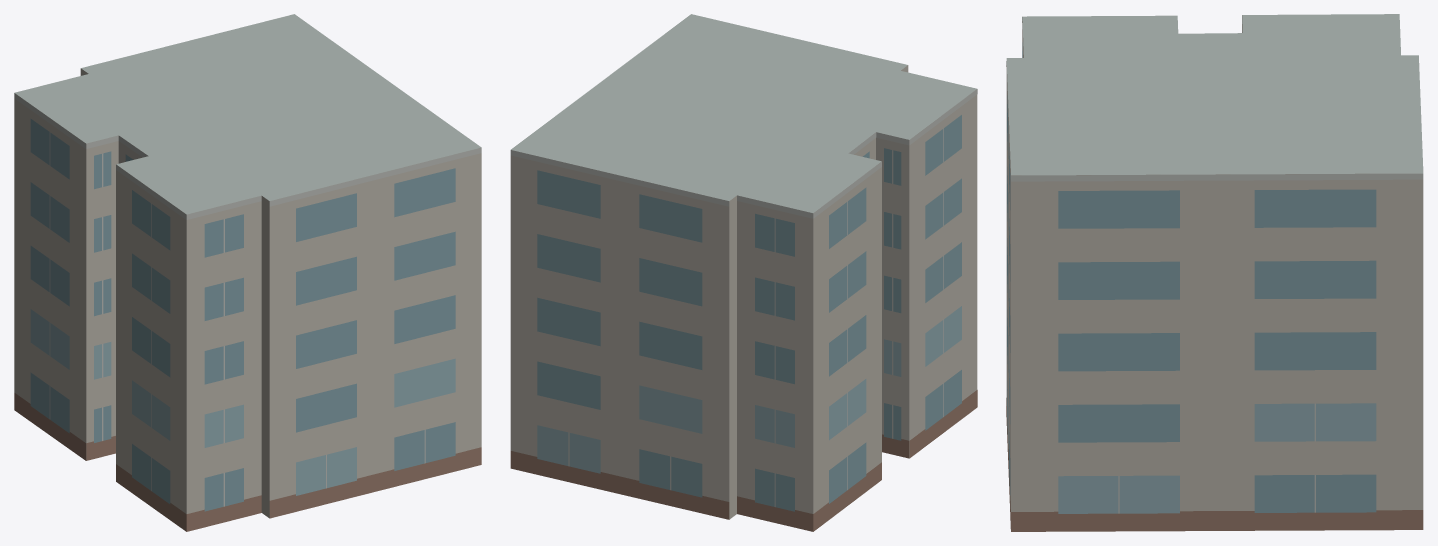
File: survey-upis-32495613.glb
The picture shows the model from 3 angles, left to right: view 1: azimuth 30°, elevation 25°; view 2: azimuth 150°, elevation 25°; view 3: azimuth 270°, elevation 25°; orthographic projection. The views are drawn at different scales.
Visible parts, largest first — view 1: survey-upis-32495613.tmp; view 2: survey-upis-32495613.tmp; view 3: survey-upis-32495613.tmp.
Part boxes in pixels (left/top/right/bottom): survey-upis-32495613.tmp: left=14, top=14, right=481, bottom=531; survey-upis-32495613.tmp: left=510, top=14, right=977, bottom=531; survey-upis-32495613.tmp: left=1006, top=14, right=1423, bottom=531.
Bounding box in the file's own units: 13.61 × 14 × 14.85.
